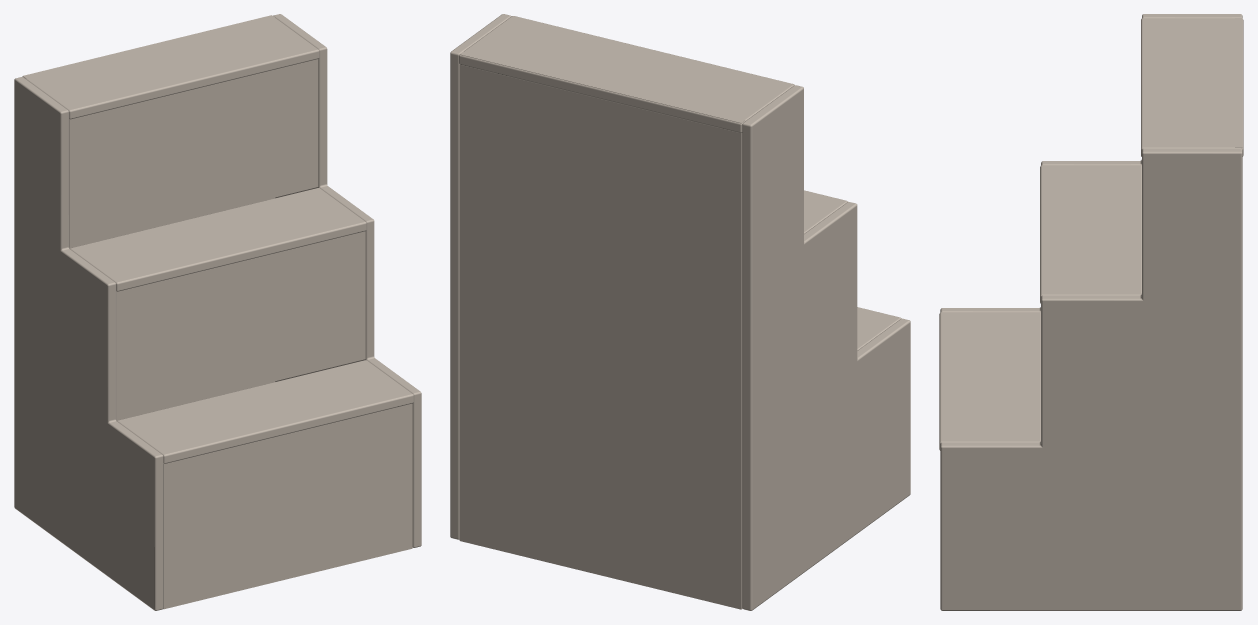
The model's file is display_stand_floor.glb.
3 renders of one model, left to right at view 1: azimuth 30°, elevation 25°; view 2: azimuth 150°, elevation 25°; view 3: azimuth 270°, elevation 25°, orthographic. The views are drawn at different scales.
Parts seen in each view (by area): view 1: display_stand_floor; view 2: display_stand_floor; view 3: display_stand_floor.
Part boxes in pixels (<box>): display_stand_floor: <box>14,14,421,610</box>; display_stand_floor: <box>450,14,910,610</box>; display_stand_floor: <box>939,14,1243,610</box>.
Size of the model in its own units: 0.65 by 1 by 0.6.
